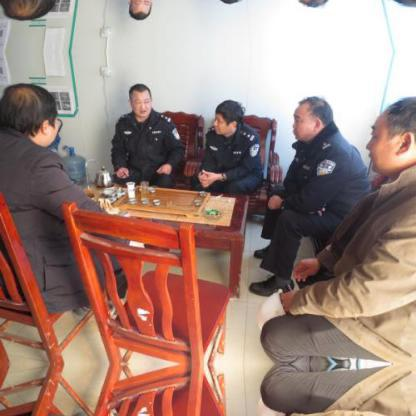head: (0, 75, 63, 150), (365, 91, 414, 182), (291, 96, 334, 145), (0, 0, 63, 28), (209, 97, 243, 137), (124, 82, 156, 122), (124, 0, 157, 21)
